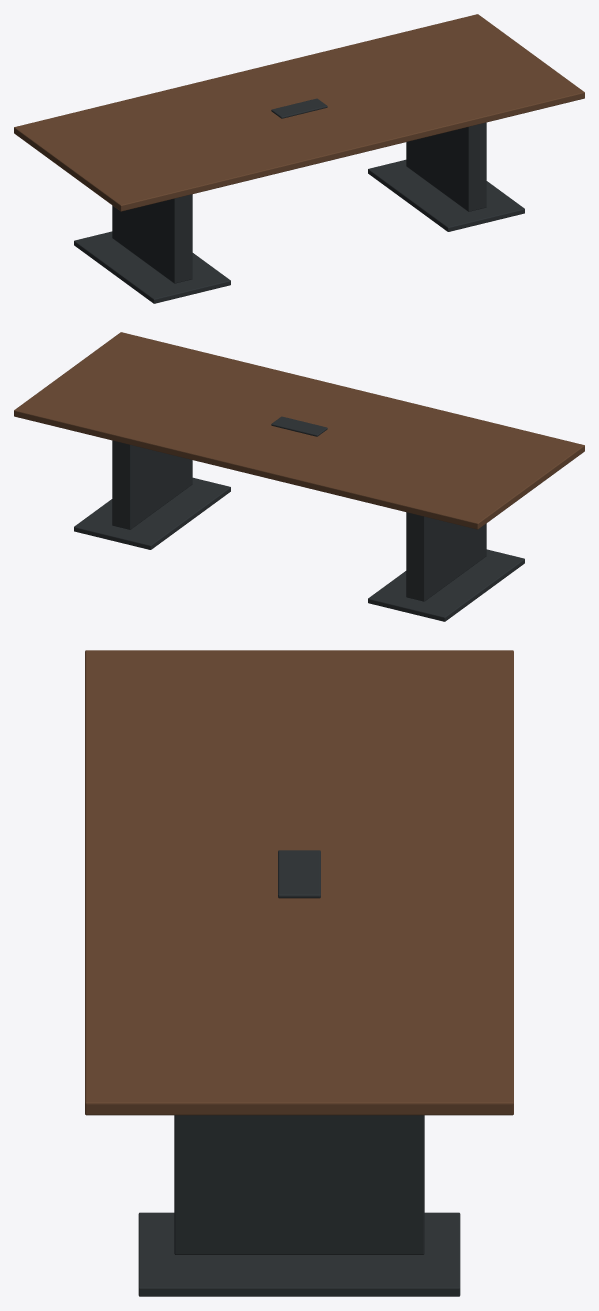
File: PROP_Table_Conference_3m.glb
The picture shows the model from 3 angles, top to bottom: view 1: azimuth 30°, elevation 25°; view 2: azimuth 150°, elevation 25°; view 3: azimuth 270°, elevation 25°; orthographic projection. The views are drawn at different scales.
Parts seen in each view (by area): view 1: PROP_Table_Conference_3m_Mesh; view 2: PROP_Table_Conference_3m_Mesh; view 3: PROP_Table_Conference_3m_Mesh.
Boxes of the visible parts, x1=… form: PROP_Table_Conference_3m_Mesh: x1=14, y1=14, x2=584, y2=303; PROP_Table_Conference_3m_Mesh: x1=14, y1=332, x2=584, y2=621; PROP_Table_Conference_3m_Mesh: x1=85, y1=650, x2=513, y2=1296.
Size of what is drawn, in the model's own units: 3 by 0.752 by 1.2.
